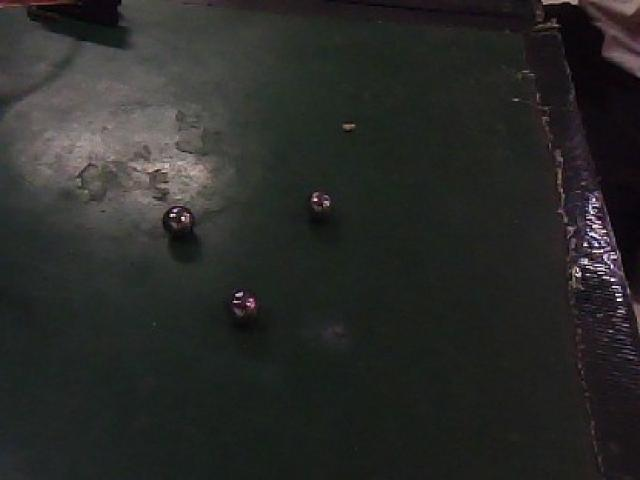steel-ball: (207, 268, 276, 342), (137, 189, 215, 251), (286, 174, 354, 228)
